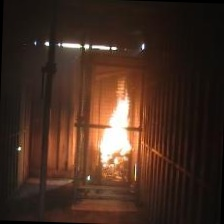fire: (92, 75, 139, 172)
